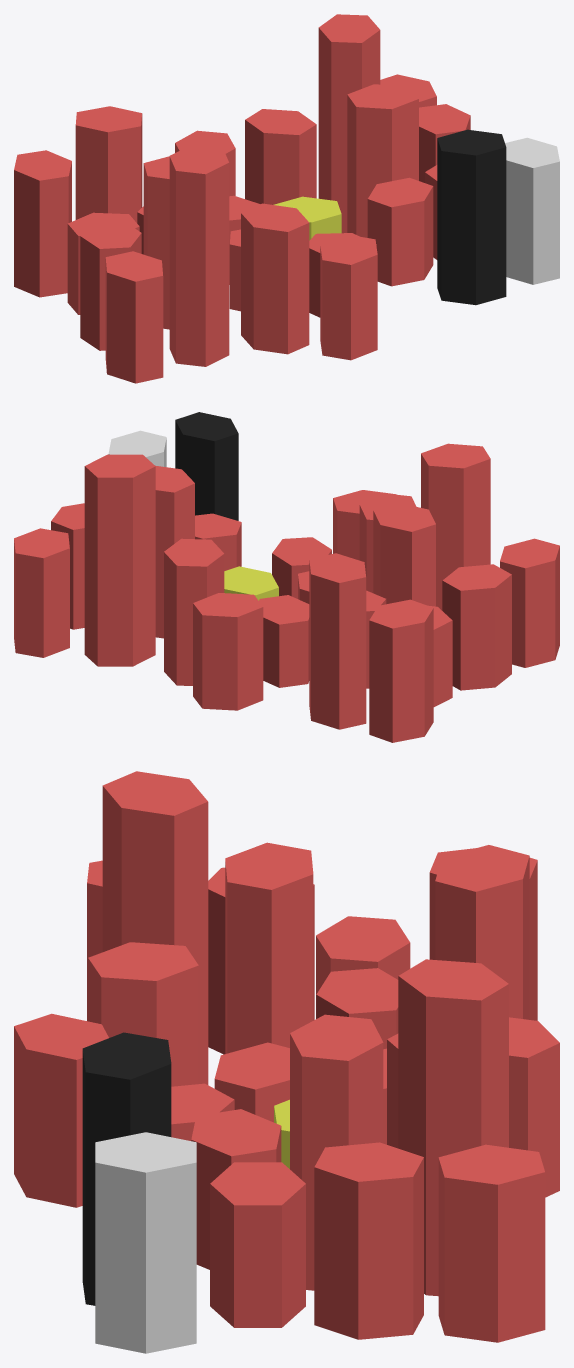
The model's file is Chips.fbx.
3 views of the same model, one above another, from view 1: azimuth 30°, elevation 25°; view 2: azimuth 150°, elevation 25°; view 3: azimuth 270°, elevation 25° (orthographic). The views are drawn at different scales.
Visible parts, largest first — view 1: Chips.020, Chips.004, Chips.024, Chips.008, Chips.005, Chips.013, Chips, Chips.018, Chips.016, Chips.021, Chips.012, Chips.002 (+11 smaller); view 2: Chips.008, Chips.016, Chips.013, Chips.020, Chips.009, Chips.019, Chips.006, Chips.018, Chips.017, Chips.012, Chips.004, Chips.011 (+10 smaller); view 3: Chips.008, Chips, Chips.007, Chips.006, Chips.020, Chips.017, Chips.003, Chips.005, Chips.021, Chips.016, Chips.004, Chips.024 (+11 smaller).
Part boxes in pixels (bbox=[...]): Chips.020: bbox=[169, 144, 229, 366]; Chips.004: bbox=[437, 129, 506, 305]; Chips.024: bbox=[241, 203, 309, 354]; Chips.008: bbox=[318, 14, 380, 233]; Chips.005: bbox=[347, 84, 418, 237]; Chips.013: bbox=[14, 150, 71, 297]; Chips: bbox=[505, 137, 559, 284]; Chips.018: bbox=[105, 251, 163, 383]; Chips.016: bbox=[75, 106, 142, 222]; Chips.021: bbox=[320, 234, 377, 360]; Chips.012: bbox=[245, 109, 316, 204]; Chips.002: bbox=[367, 177, 433, 286]; Chips.008: bbox=[84, 454, 155, 666]; Chips.016: bbox=[309, 553, 366, 729]; Chips.013: bbox=[369, 599, 433, 742]; Chips.020: bbox=[421, 443, 490, 610]; Chips.009: bbox=[193, 593, 263, 710]; Chips.019: bbox=[442, 564, 511, 690]; Chips.006: bbox=[14, 528, 69, 657]; Chips.018: bbox=[500, 538, 559, 667]; Chips.017: bbox=[373, 502, 435, 606]; Chips.012: bbox=[164, 538, 224, 685]; Chips.004: bbox=[175, 412, 238, 520]; Chips.011: bbox=[259, 595, 309, 687]; Chips.008: bbox=[398, 959, 508, 1296]; Chips: bbox=[95, 1132, 196, 1353]; Chips.007: bbox=[314, 1142, 423, 1339]; Chips.006: bbox=[438, 1144, 545, 1342]; Chips.020: bbox=[102, 771, 208, 1084]; Chips.017: bbox=[225, 842, 313, 1053]; Chips.003: bbox=[210, 1162, 305, 1327]; Chips.005: bbox=[290, 1014, 383, 1290]; Chips.021: bbox=[14, 1013, 108, 1207]; Chips.016: bbox=[435, 845, 529, 1019]; Chips.004: bbox=[82, 1032, 171, 1305]; Chips.024: bbox=[88, 942, 198, 1086].
Size of the model in its own units: 74.23 by 30.72 by 50.12.
